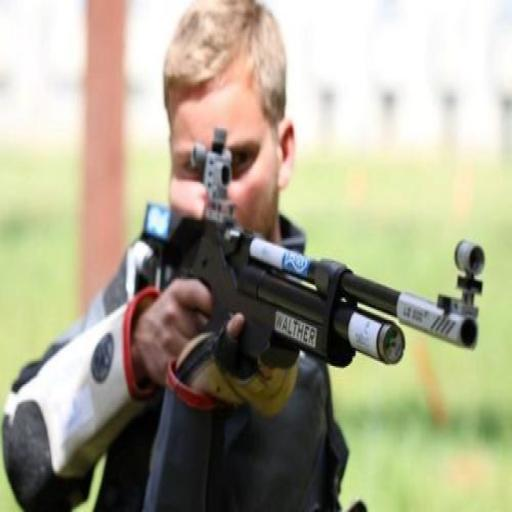shooting: (57, 26, 512, 512)
